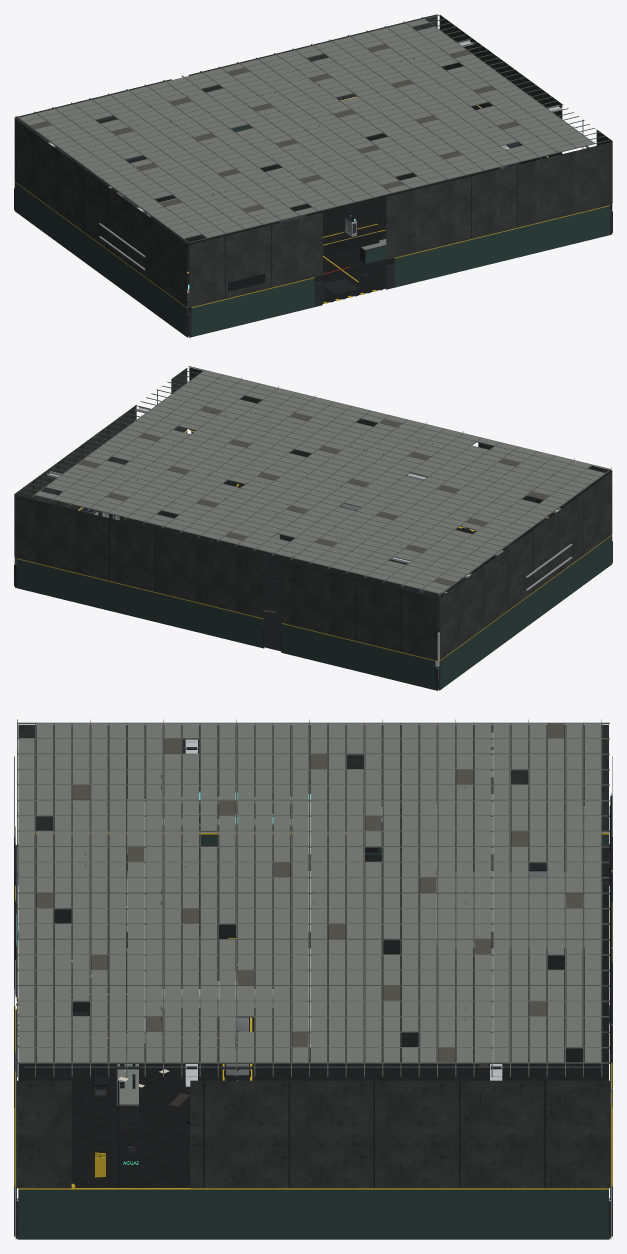
The model's file is control_art.glb.
3 views of the same model, one above another, from view 1: azimuth 30°, elevation 25°; view 2: azimuth 150°, elevation 25°; view 3: azimuth 270°, elevation 25° (orthographic). The views are drawn at different scales.
Visible parts, largest first — view 1: CTRL_CeilingGrid, CTRL_WallPanels_DECAL, CTRL_WallBands_TRIM, CTRL_FloorOverlay_DECAL, CTRL_WallCladding, CTRL_WallSeams_TRIM, CTRL_Floor_TRIM, CTRL_Sign_Main, CTRL_Counter_East; view 2: CTRL_CeilingGrid, CTRL_WallPanels_DECAL, CTRL_WallBands_TRIM, CTRL_FloorOverlay_DECAL, CTRL_WallSeams_TRIM; view 3: CTRL_CeilingGrid, CTRL_WallPanels_DECAL, CTRL_WallBands_TRIM, CTRL_FloorOverlay_DECAL, CTRL_Ceiling_CABLE, CTRL_WallCladding, CTRL_GuardBooth_Glass, CTRL_WallSeams_TRIM, CTRL_HVAC_Duct_CABLE, CTRL_Counter_East, CTRL_WallConduits_CABLE.
Boxes of the visible parts, bbox=[...] form: CTRL_CeilingGrid: bbox=[15, 14, 610, 243]; CTRL_WallPanels_DECAL: bbox=[14, 14, 612, 307]; CTRL_WallBands_TRIM: bbox=[14, 96, 612, 336]; CTRL_FloorOverlay_DECAL: bbox=[150, 133, 500, 335]; CTRL_WallCladding: bbox=[14, 143, 612, 337]; CTRL_WallSeams_TRIM: bbox=[33, 28, 583, 298]; CTRL_Floor_TRIM: bbox=[187, 224, 385, 303]; CTRL_Sign_Main: bbox=[329, 232, 379, 254]; CTRL_Counter_East: bbox=[360, 239, 386, 264]; CTRL_CeilingGrid: bbox=[18, 366, 611, 596]; CTRL_WallPanels_DECAL: bbox=[14, 367, 612, 660]; CTRL_WallBands_TRIM: bbox=[14, 431, 612, 690]; CTRL_FloorOverlay_DECAL: bbox=[119, 480, 516, 688]; CTRL_WallSeams_TRIM: bbox=[33, 390, 583, 651]; CTRL_CeilingGrid: bbox=[17, 719, 609, 1077]; CTRL_WallPanels_DECAL: bbox=[16, 725, 610, 1188]; CTRL_WallBands_TRIM: bbox=[14, 833, 612, 1239]; CTRL_FloorOverlay_DECAL: bbox=[18, 885, 608, 1187]; CTRL_Ceiling_CABLE: bbox=[24, 733, 602, 1086]; CTRL_WallCladding: bbox=[14, 844, 612, 1239]; CTRL_GuardBooth_Glass: bbox=[418, 804, 584, 947]; CTRL_WallSeams_TRIM: bbox=[14, 756, 612, 1187]; CTRL_HVAC_Duct_CABLE: bbox=[127, 799, 310, 1046]; CTRL_Counter_East: bbox=[116, 1031, 139, 1128]; CTRL_WallConduits_CABLE: bbox=[609, 792, 612, 1101].
Size of the model in its own units: 27.76 by 6.03 by 19.67.
Materials: 32 (9 with a texture image).
